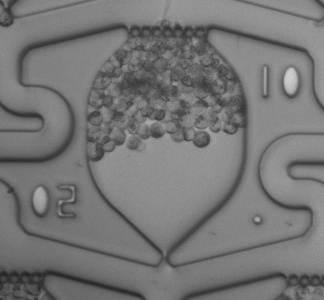AptNum: (247, 60, 309, 105)
Marker: (243, 206, 273, 233)
StNum: (23, 179, 85, 229)
Trap: (144, 256, 188, 298)
